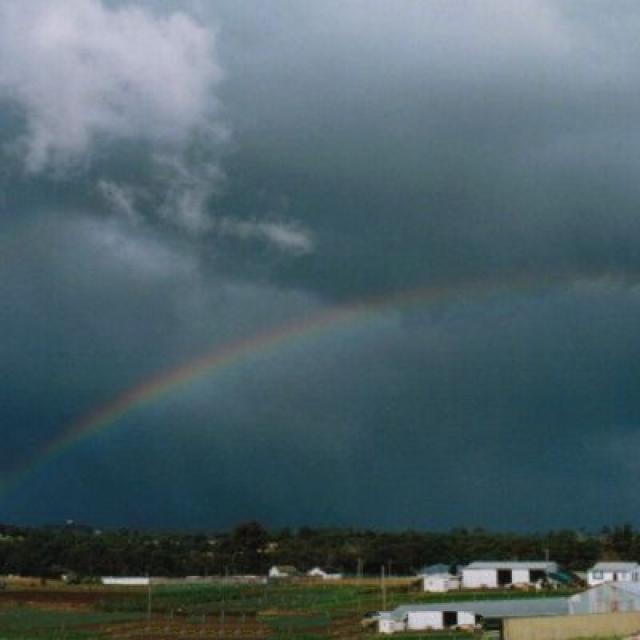St: (1, 1, 500, 334)
